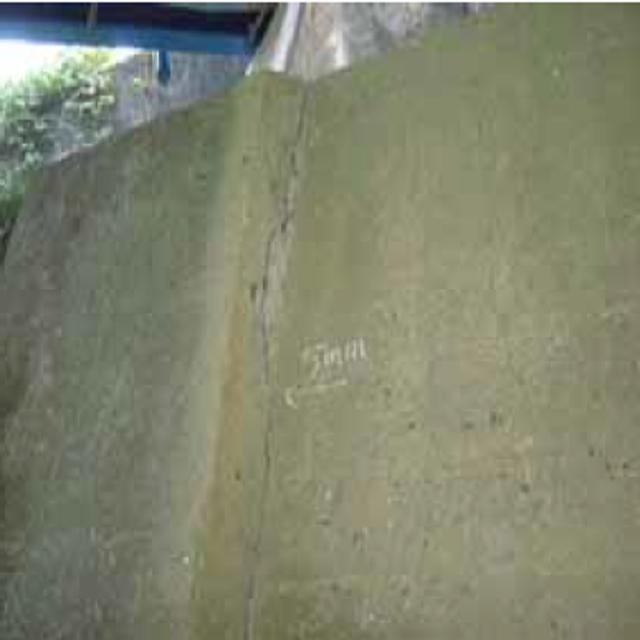crack: (248, 90, 312, 401)
